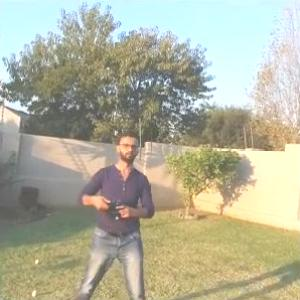follow: (67, 126, 160, 299)
